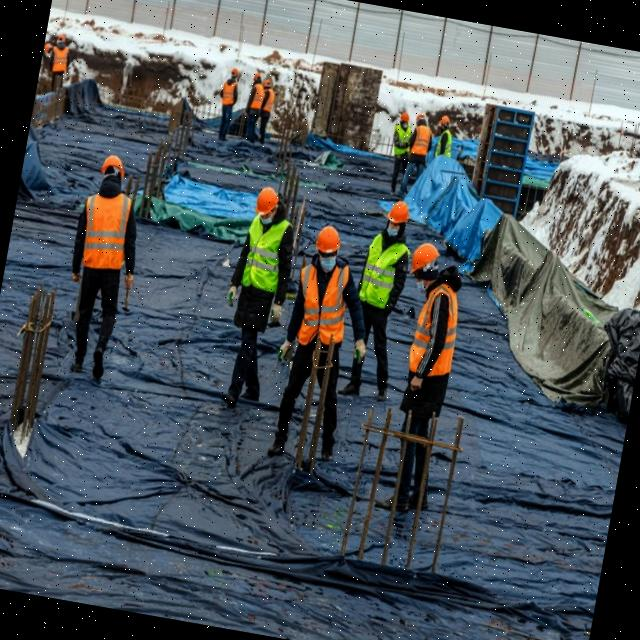Helmet: (409, 241, 443, 286), (313, 223, 346, 260), (255, 184, 283, 221), (384, 199, 413, 234), (100, 153, 128, 180), (400, 112, 412, 125), (440, 115, 452, 126), (230, 68, 241, 79), (57, 35, 68, 45), (416, 114, 428, 123), (253, 74, 263, 84), (264, 79, 272, 89)
Jacket: (408, 279, 462, 381), (295, 260, 348, 350), (80, 189, 133, 275), (361, 233, 408, 307), (242, 218, 287, 292), (411, 123, 432, 160), (394, 124, 413, 158), (51, 43, 70, 75), (436, 127, 454, 158), (223, 78, 239, 108), (250, 83, 265, 111), (262, 88, 275, 113)
